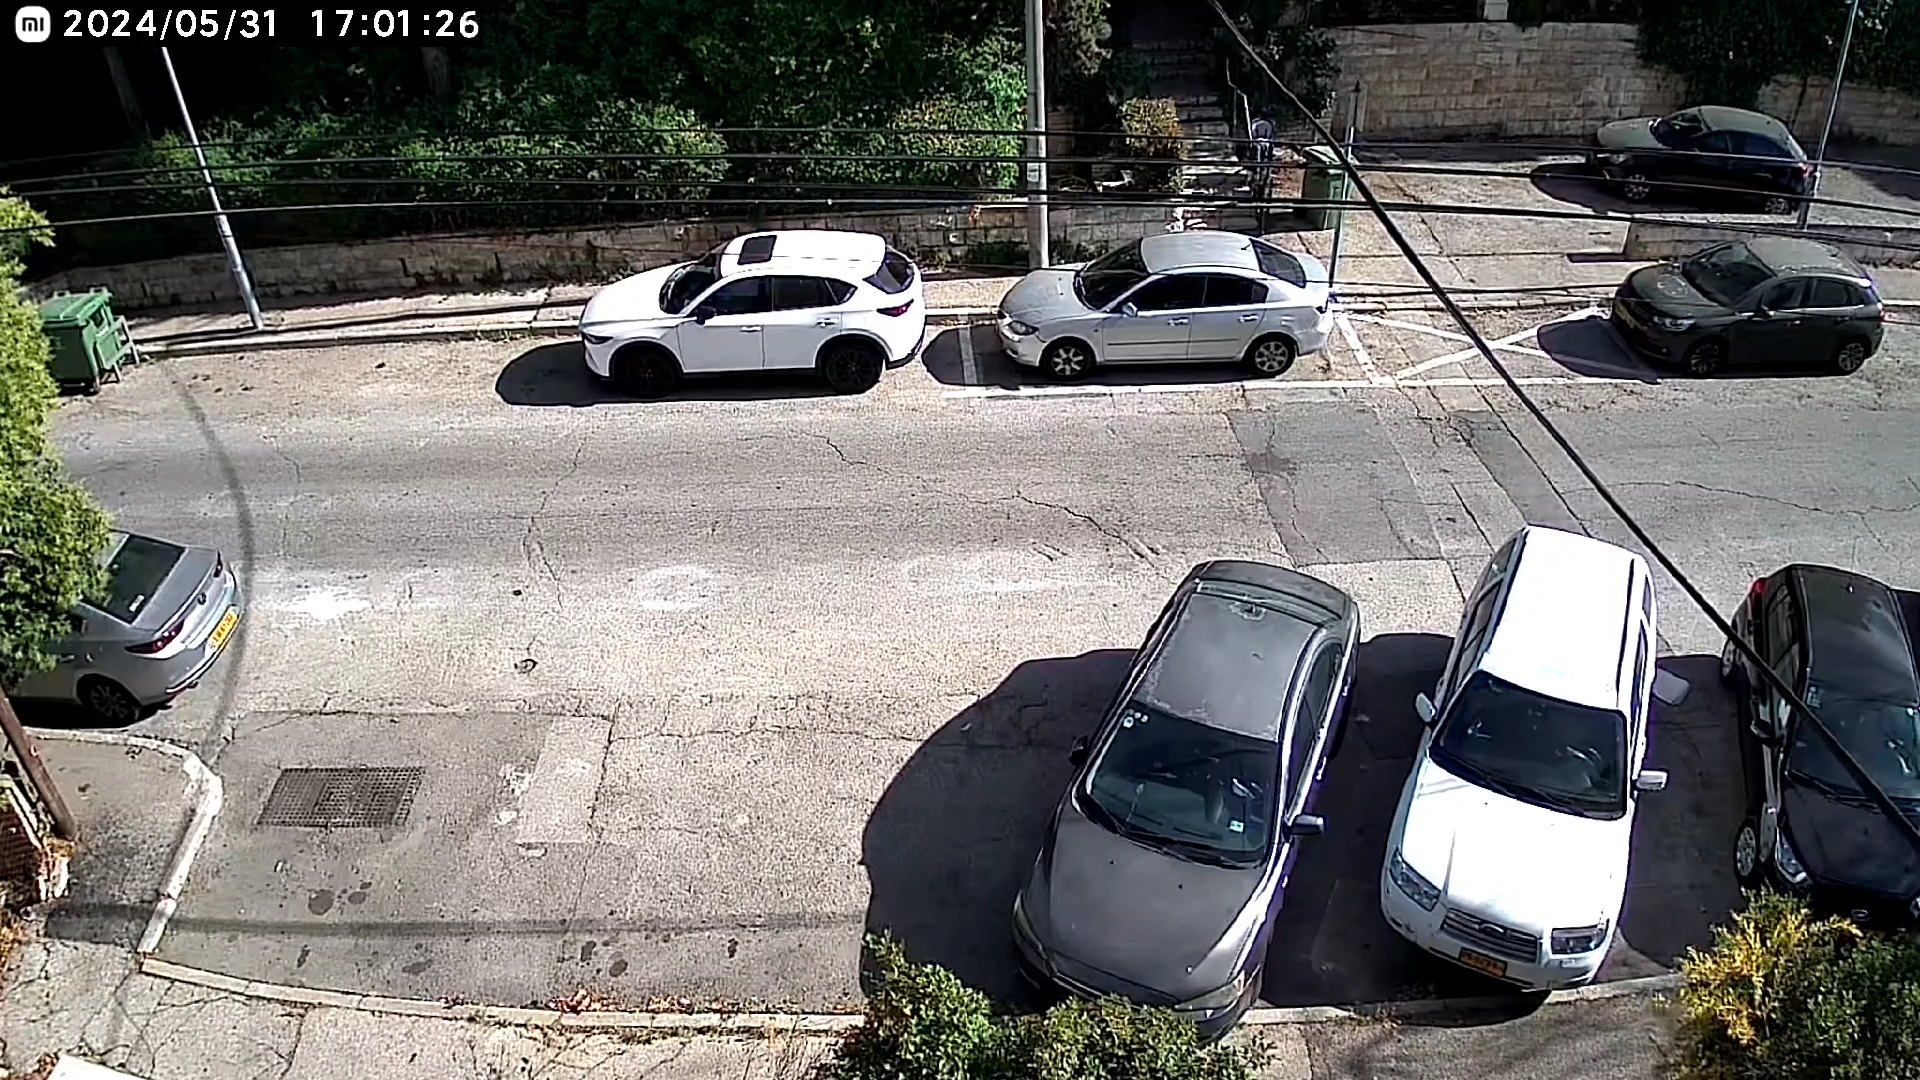empty: (204, 553, 1067, 967), (135, 223, 579, 404)
